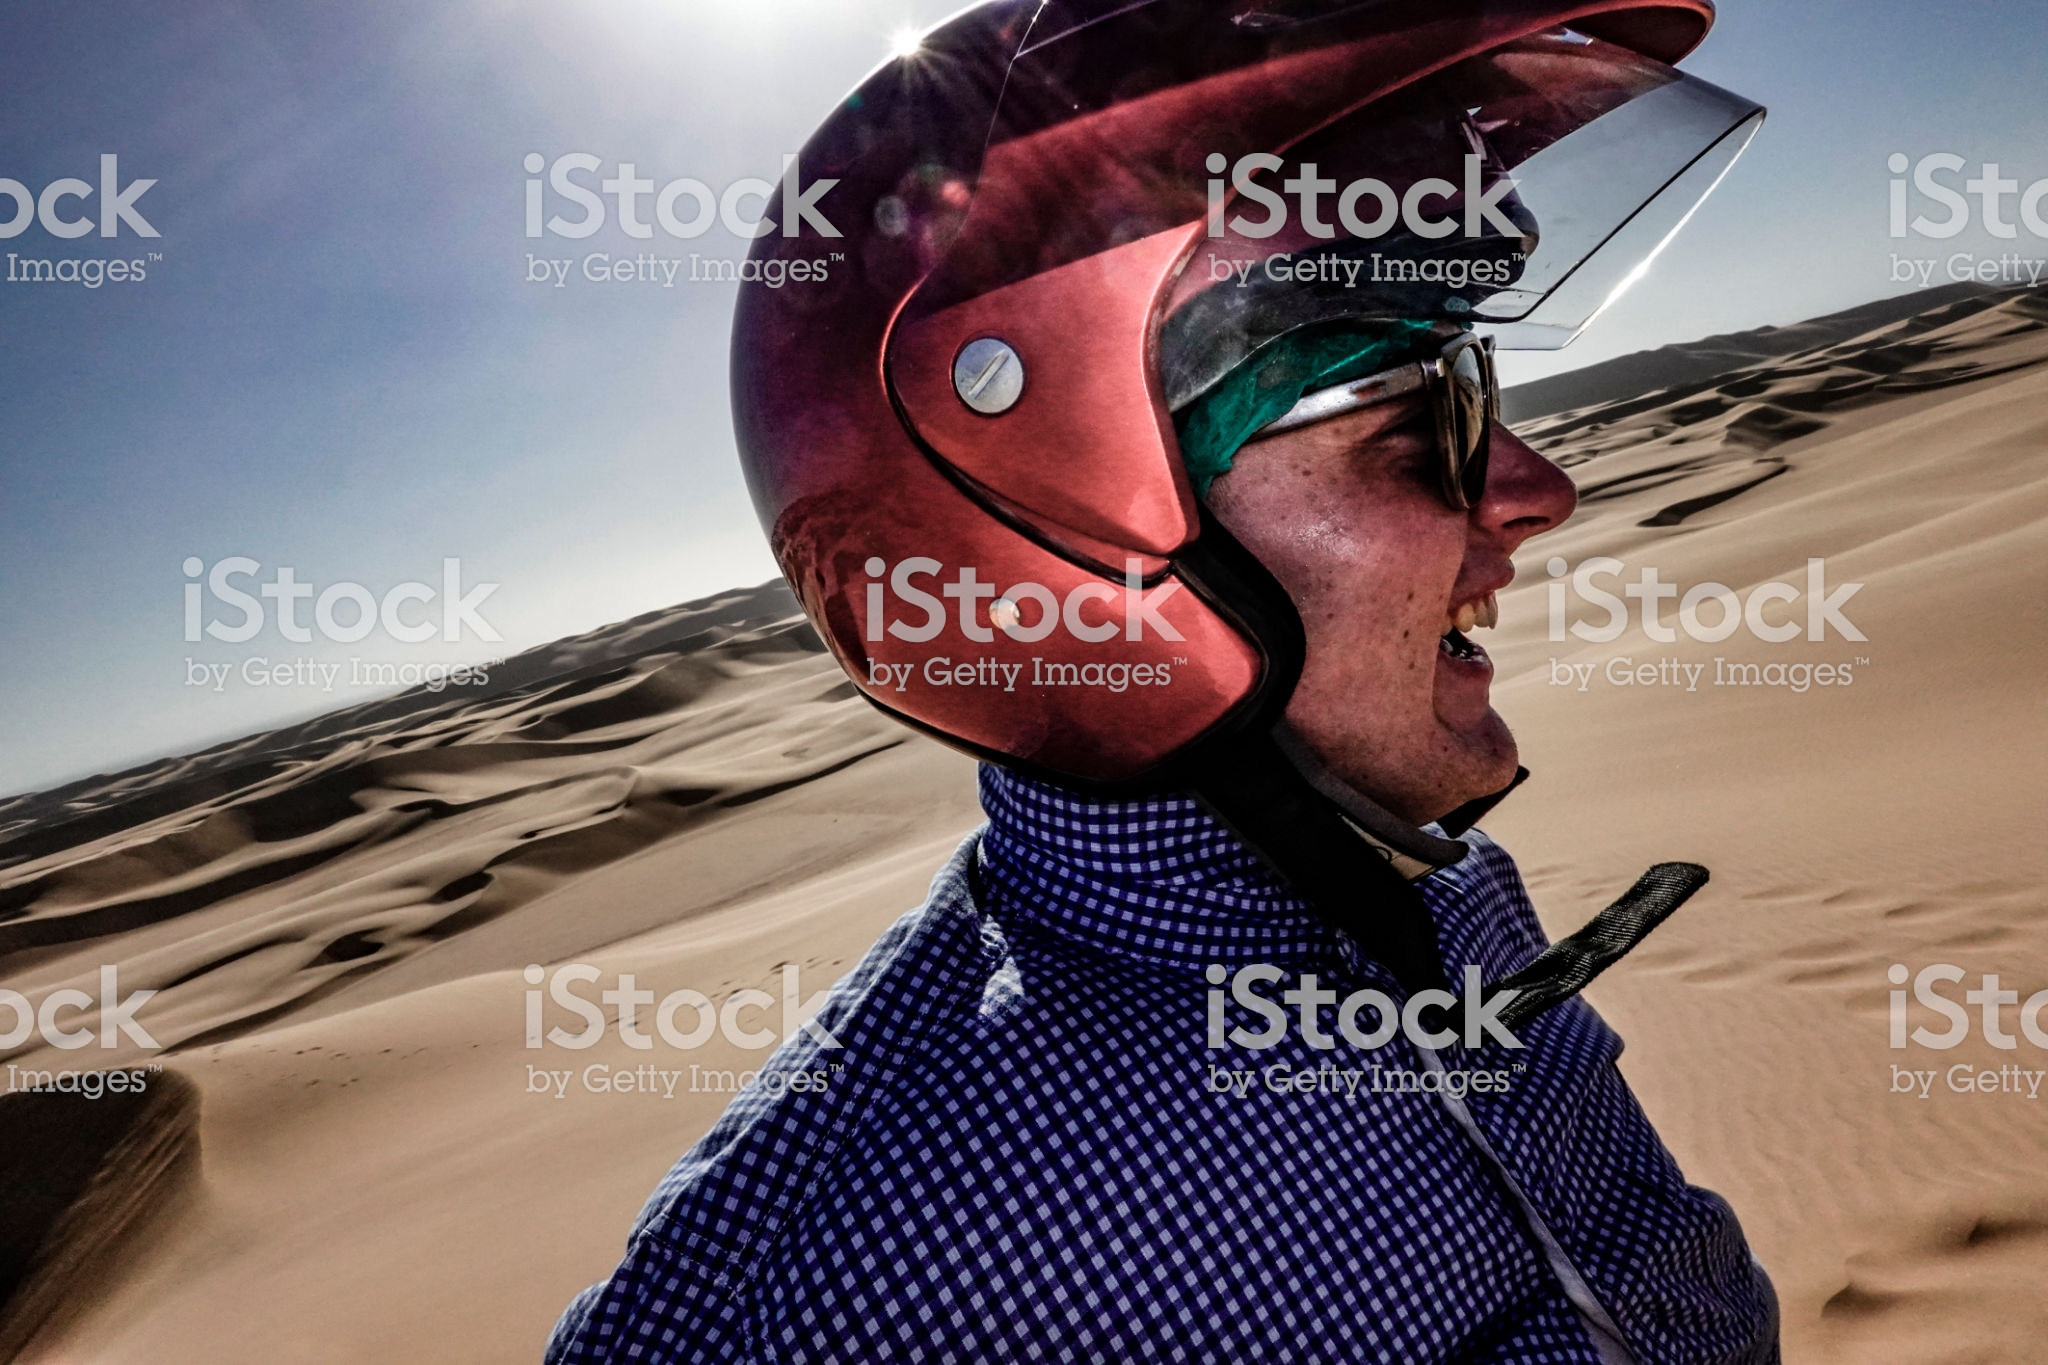helmet: (700, 34, 1654, 778)
